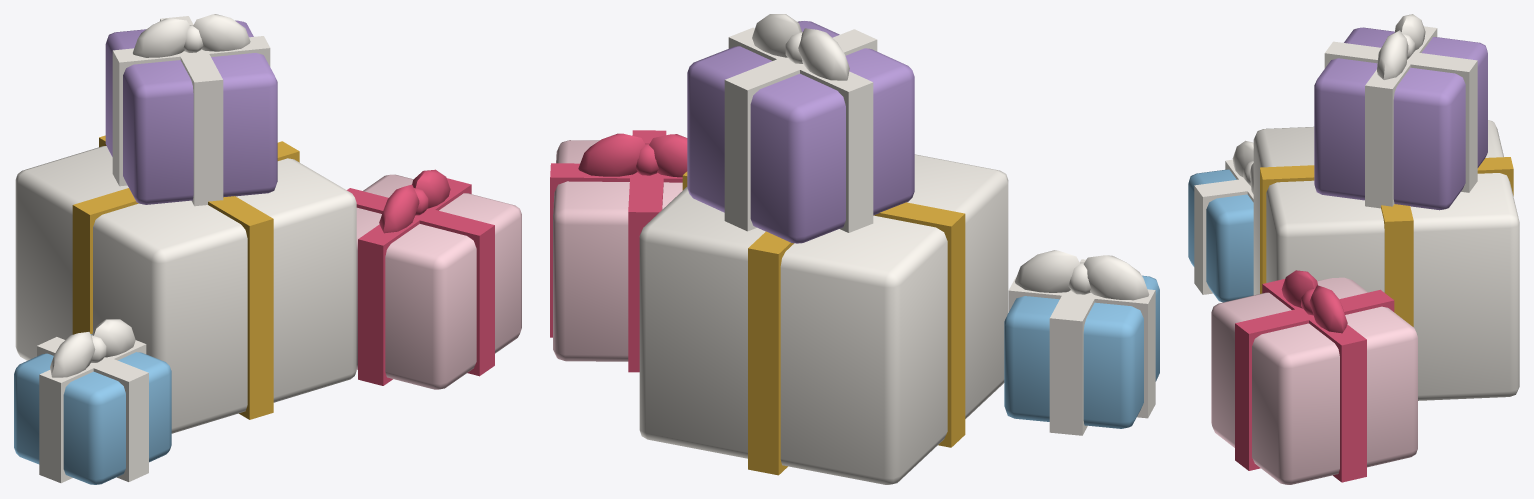
The model's file is presentes.glb.
3 views of the same model, side by side, from view 1: azimuth 30°, elevation 25°; view 2: azimuth 150°, elevation 25°; view 3: azimuth 270°, elevation 25° (orthographic). The views are drawn at different scales.
Visible parts, largest first — view 1: Presentes; view 2: Presentes; view 3: Presentes.
Part boxes in pixels (x1,y1,x2,y2): Presentes: [14, 14, 521, 484]; Presentes: [550, 14, 1159, 484]; Presentes: [1188, 14, 1519, 484].
Bounding box in the file's own units: 0.7889 × 0.519 × 0.4603.
